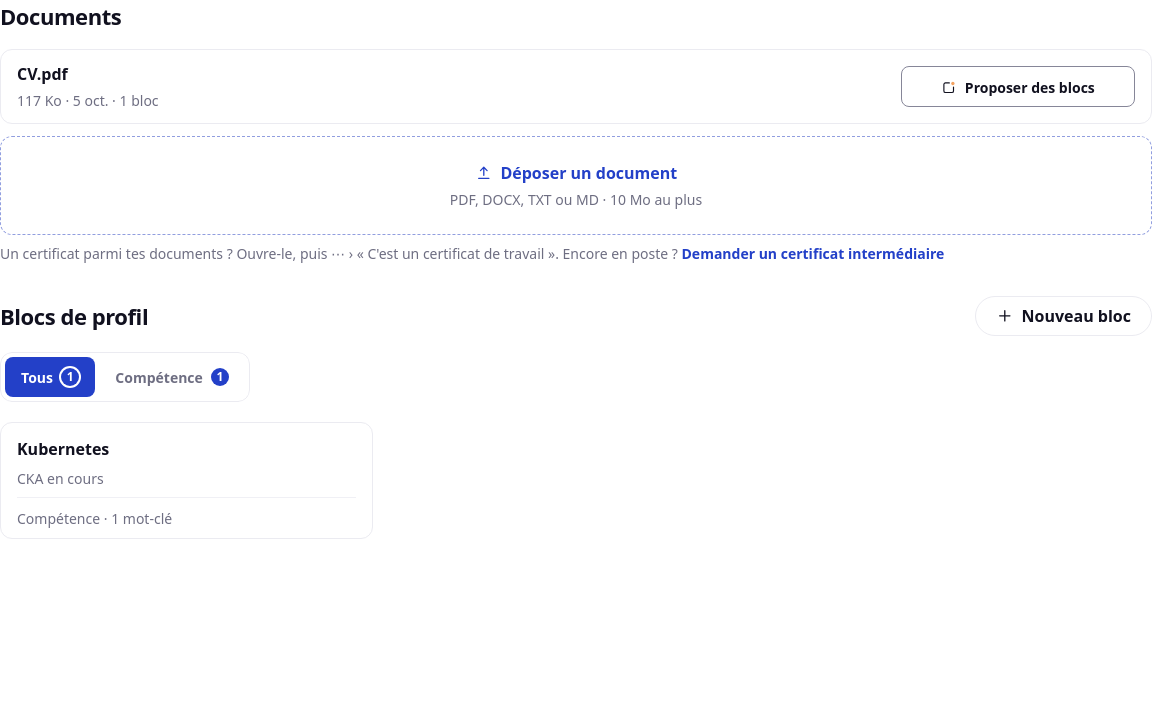
propositions de blocs › propose, laisse décocher les doublons, ajoute la sélection
Click the button with test id "propose-4".
click(1018, 87)  # box x1=901 y1=66 x2=1135 y2=107
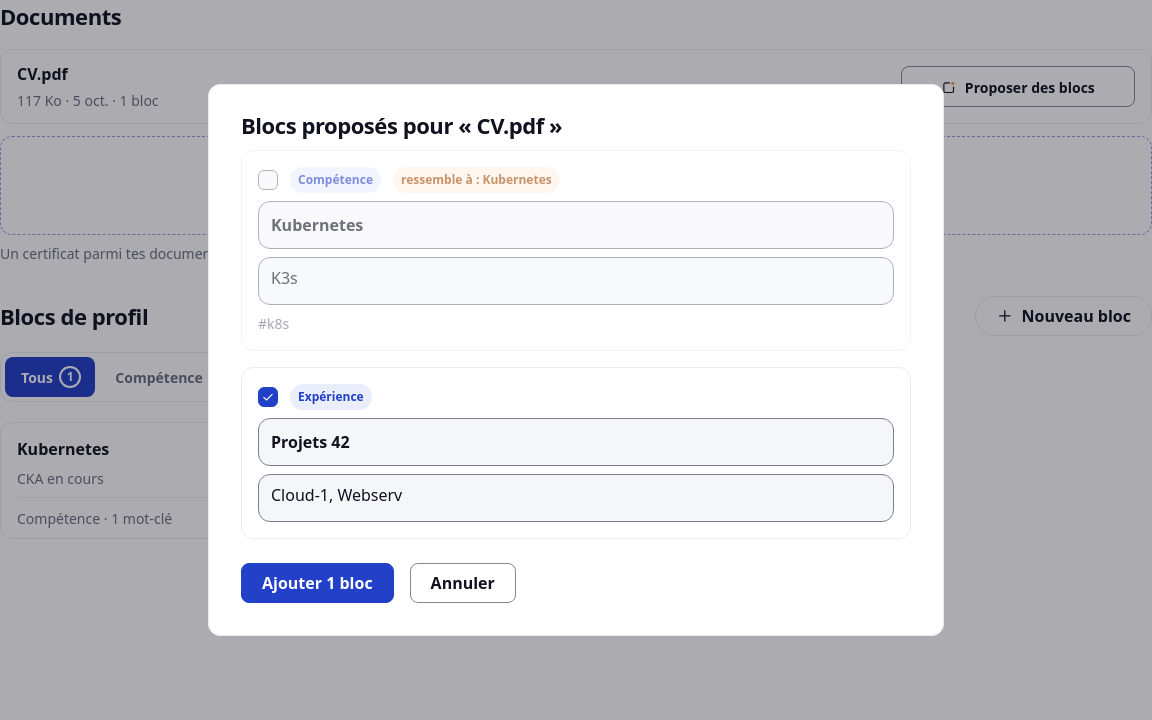
Expected: the list item with test id "proposal" shows "ressemble à : Kubernetes", x1=401 y1=171 x2=552 y2=188
Expected: the checkbox labelled "Compétence ressemble à : Kubernetes" is not checked, x1=258 y1=170 x2=278 y2=190
Expected: the button with test id "add-proposals" reads "Ajouter 1 bloc", x1=241 y1=563 x2=394 y2=603
Replace the text in the field named "Titre du bloc 2" with "Projets 42 Lausanne" at (576, 442), box x1=258 y1=418 x2=894 y2=466
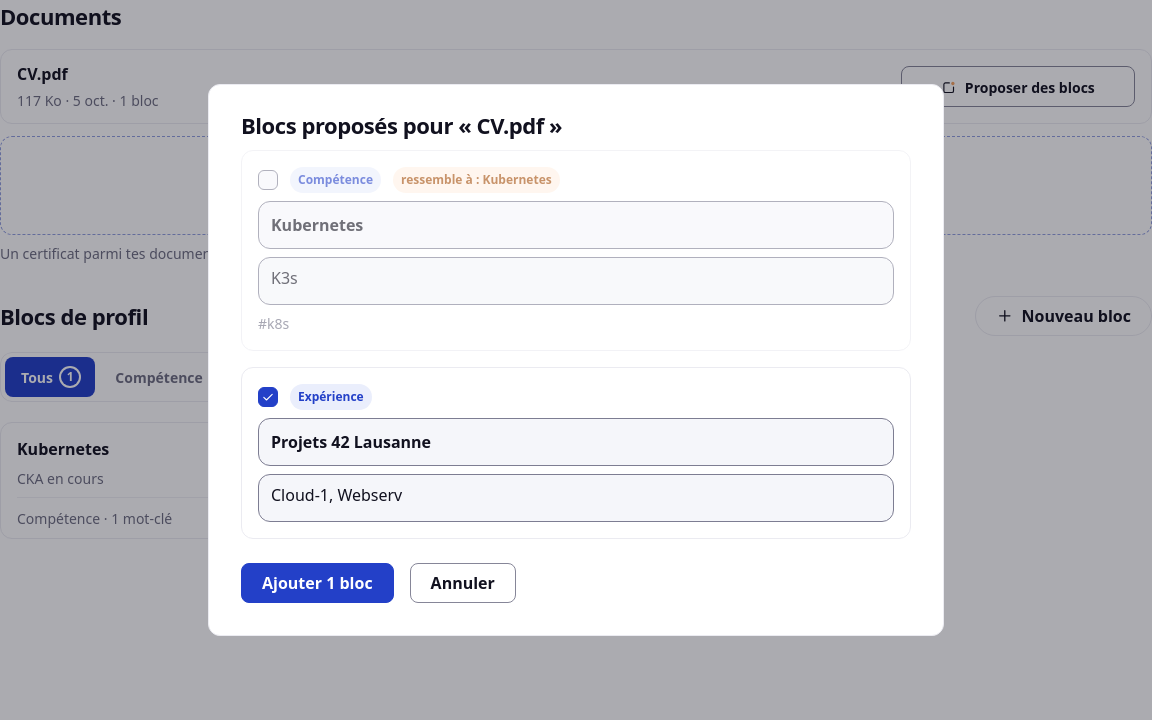
Submit the form with test id "proposals", box x1=208 y1=84 x2=944 y2=636
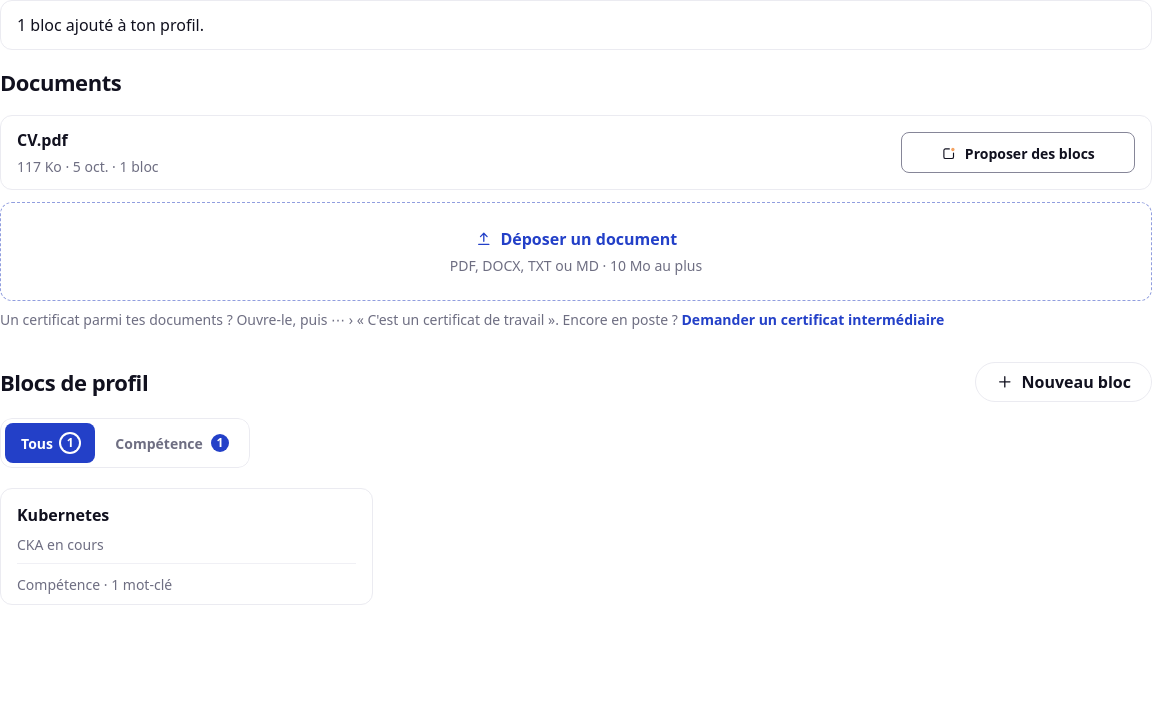
Expected: the message "1 bloc ajouté à ton profil." is shown, x1=0 y1=0 x2=1151 y2=50
